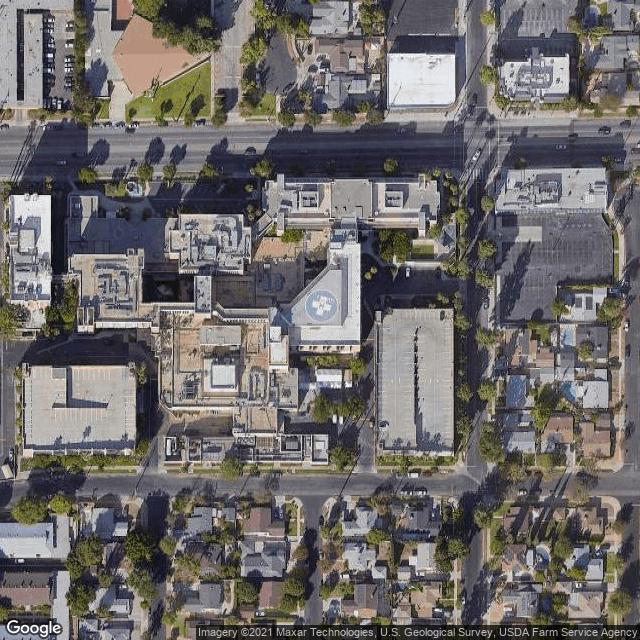Helipad: (303, 290, 337, 318)
